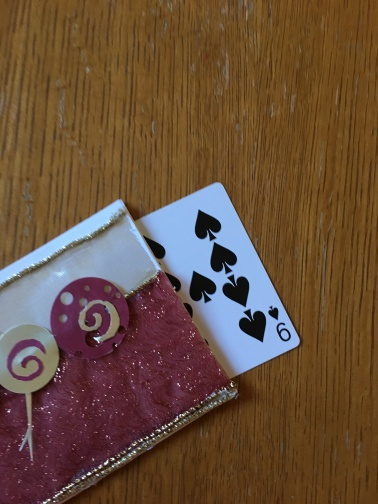nine: (132, 182, 301, 377)
